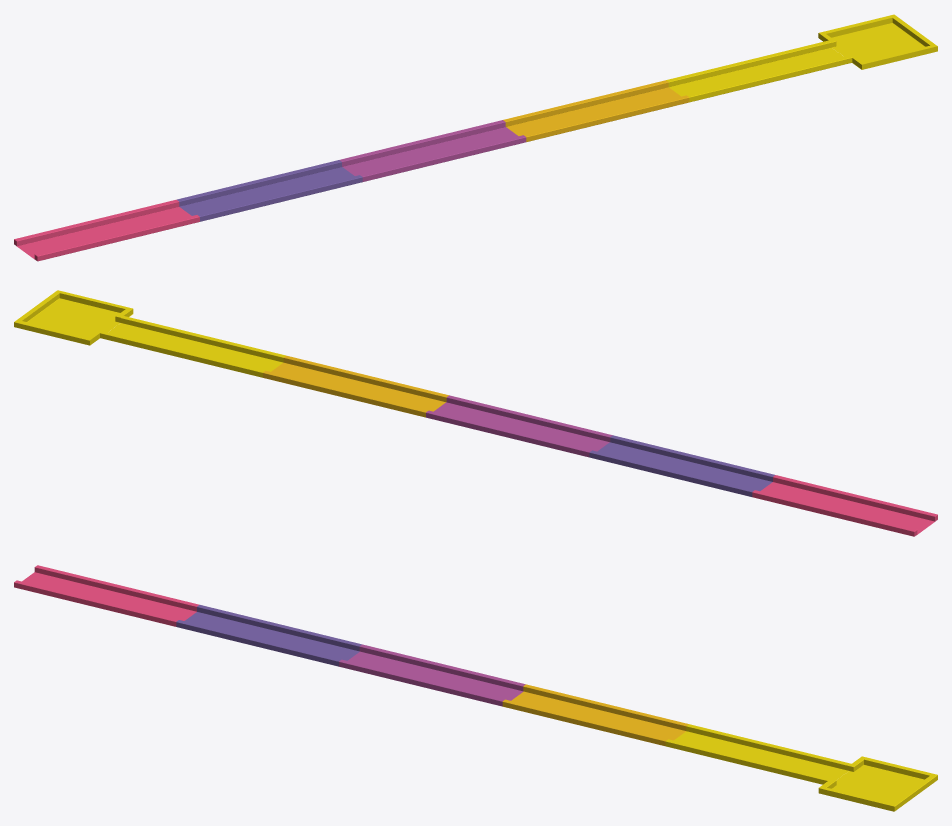
The model's file is TargetBowling.fbx.
The picture shows the model from 3 angles, top to bottom: view 1: azimuth 30°, elevation 25°; view 2: azimuth 150°, elevation 25°; view 3: azimuth 330°, elevation 25°; orthographic projection.
Visible parts, largest first — view 1: Plane.022; view 2: Plane.022; view 3: Plane.022.
Boxes of the visible parts, x1,y1,x2,y2 form: Plane.022: (14, 14, 937, 261); Plane.022: (14, 290, 937, 536); Plane.022: (14, 565, 937, 811).
Size of the model in its own units: 546 by 3.08 by 46.22.
